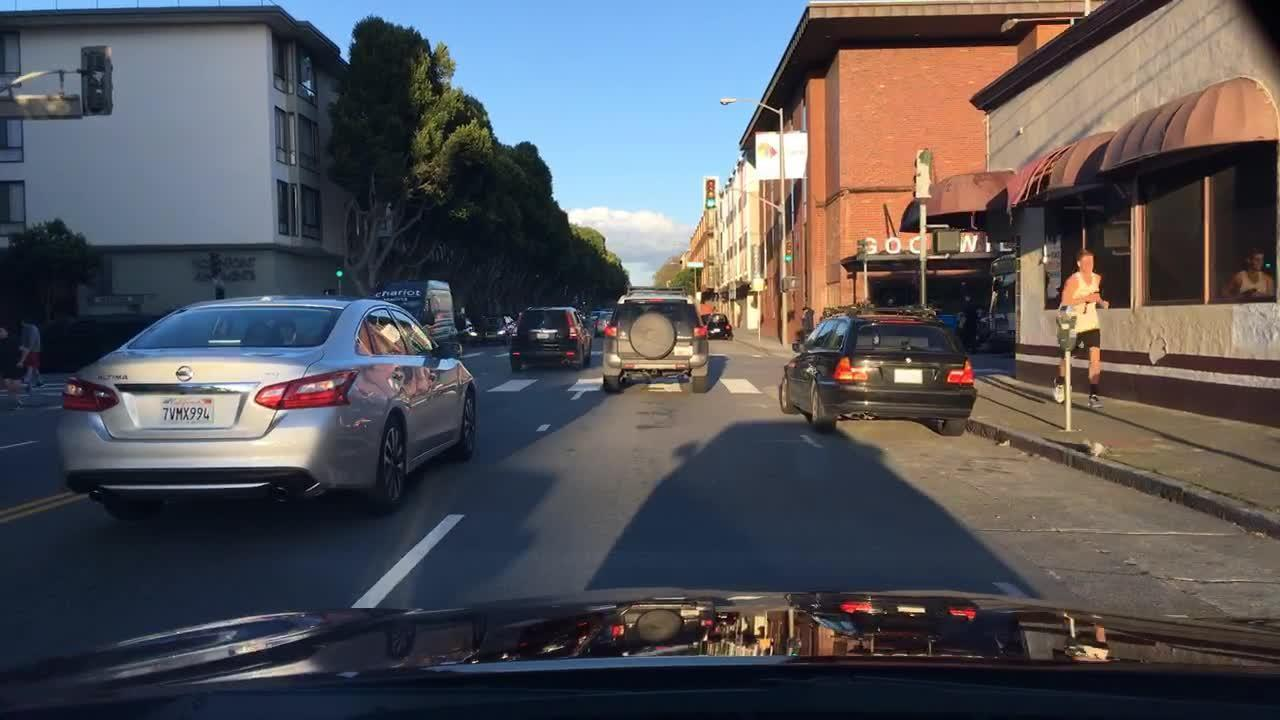Nissan: (170, 361, 197, 386)
